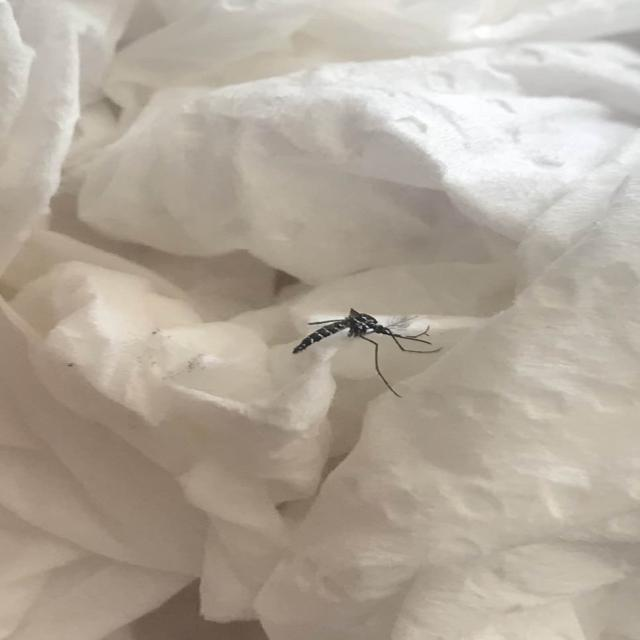albopictus: (292, 301, 440, 401)
